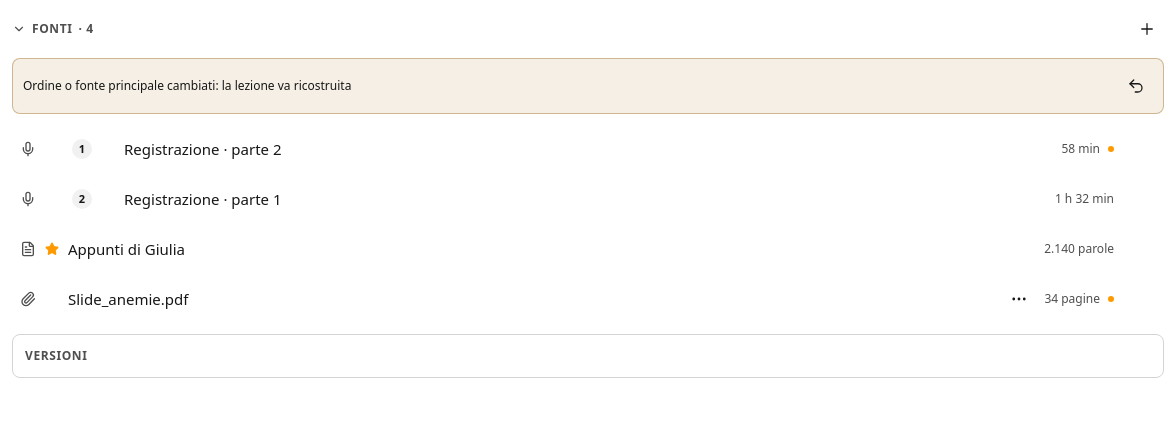
Scenario: SourcesSection (Wireframe RT-fonti-materie scena 2) › Rimetti com'era mostra l'errore del server
Click the button named "Rimetti com'era" at (1136, 86), box [1119, 69, 1153, 103]
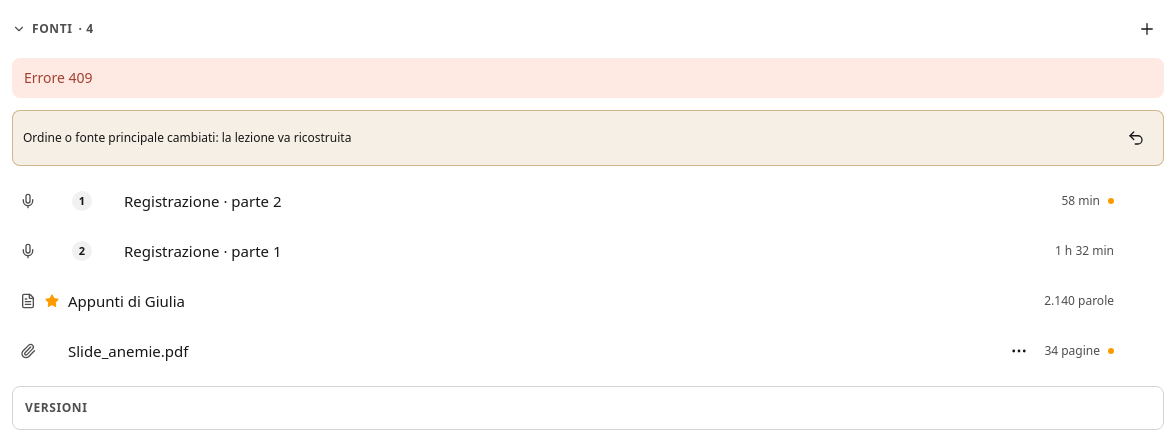
Expected: the message "Errore 409" is shown, [12, 58, 1164, 98]
